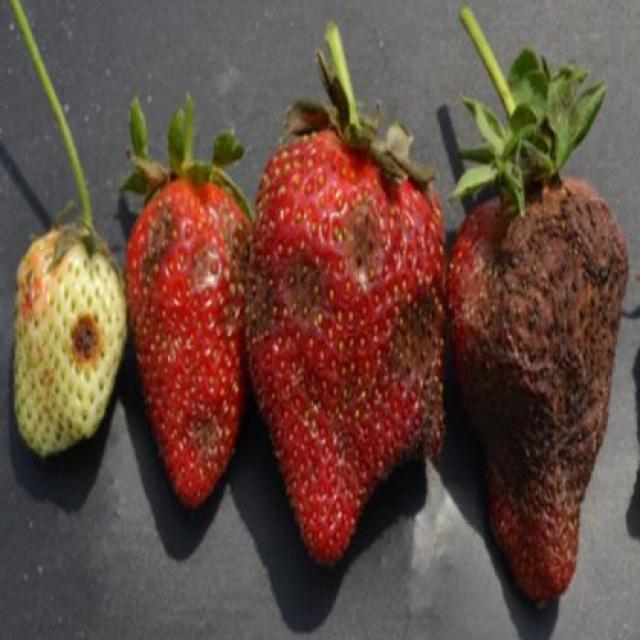Anthracnose Fruit Rot: (244, 104, 447, 572), (448, 186, 631, 571), (124, 157, 251, 516), (11, 198, 128, 464)
